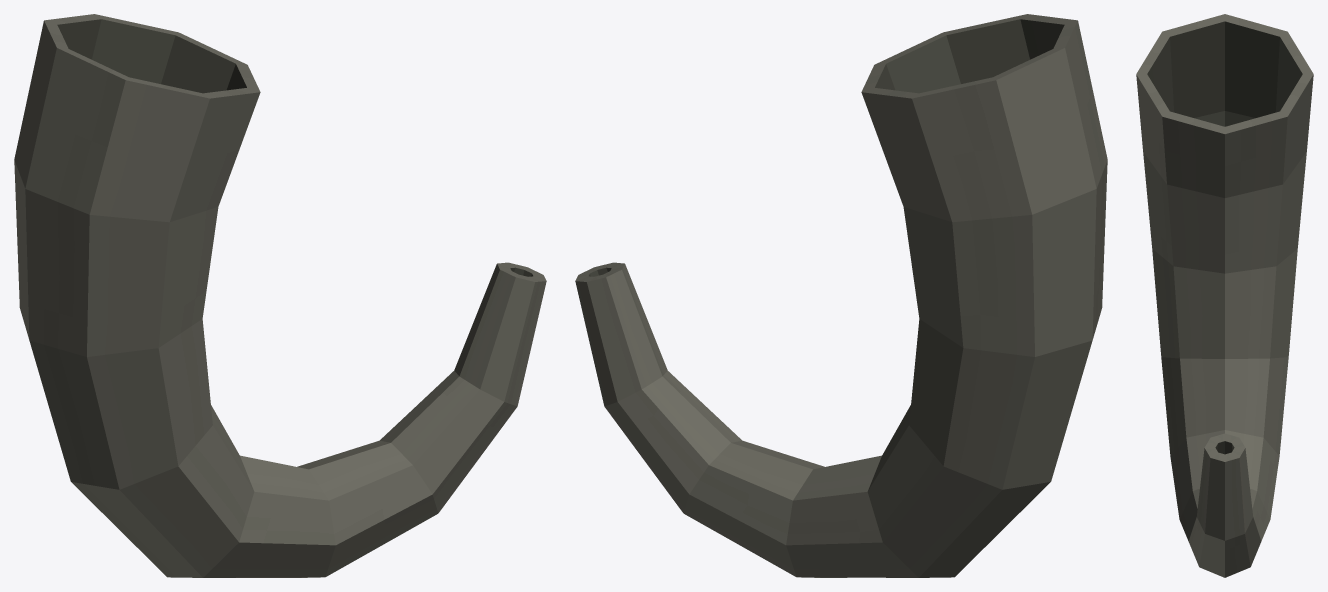
File: tooting_goat_horn.obj
3 renders of one model, left to right at view 1: azimuth 30°, elevation 25°; view 2: azimuth 150°, elevation 25°; view 3: azimuth 270°, elevation 25°, orthographic. The views are drawn at different scales.
Size of the model in its own units: 0.6311 by 0.6869 by 0.2437.
